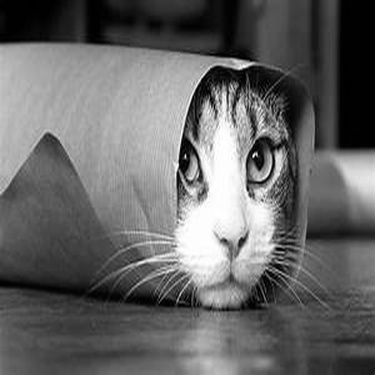cat: (168, 64, 294, 308)
